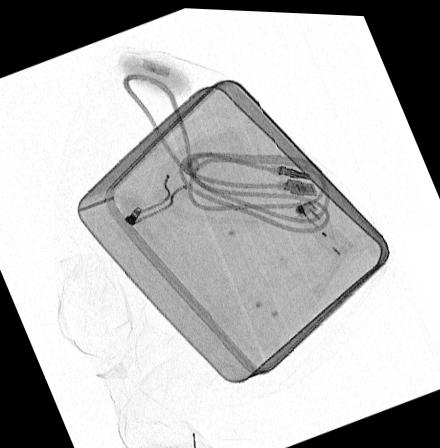Lighter: (293, 198, 353, 257)
